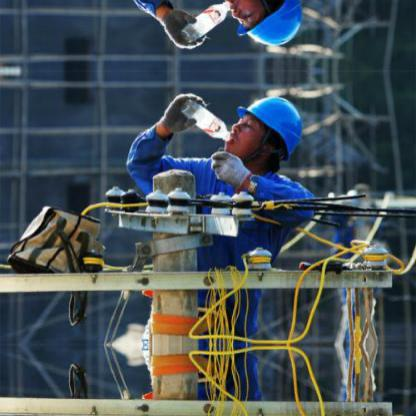helmet: (219, 90, 308, 172), (218, 0, 308, 52)
person: (126, 90, 323, 343), (125, 346, 323, 414), (125, 0, 323, 51)
